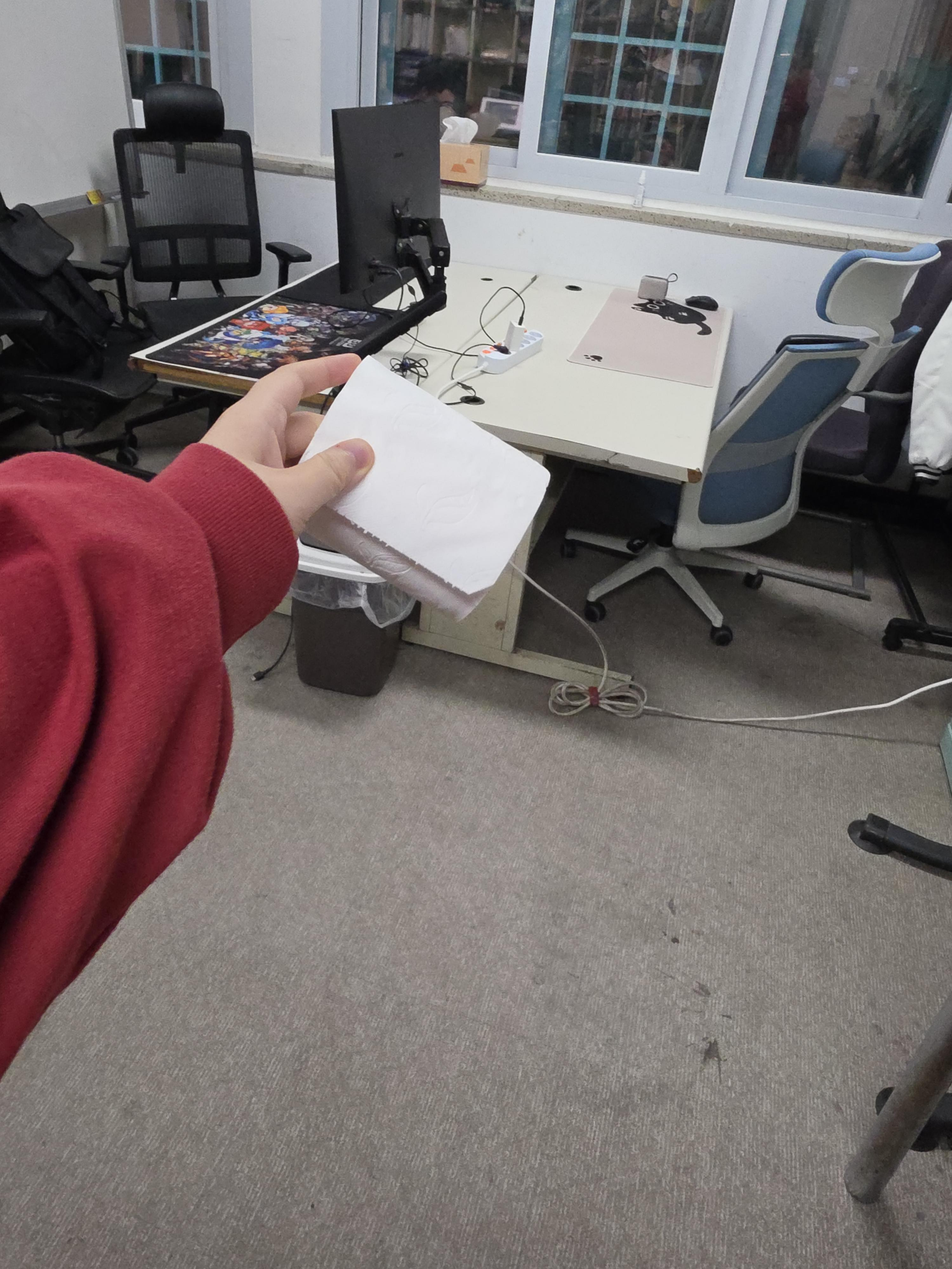tissue: (299, 355, 551, 623), (440, 116, 479, 144)
